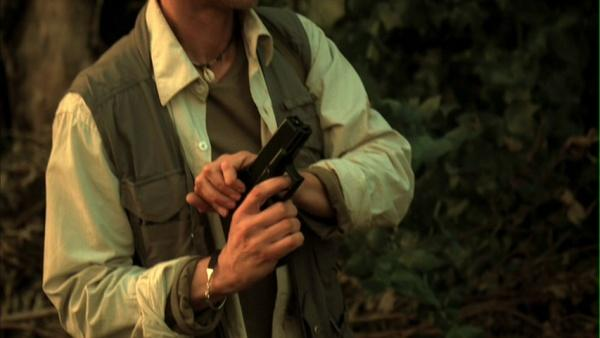Gun: (238, 112, 315, 214)
